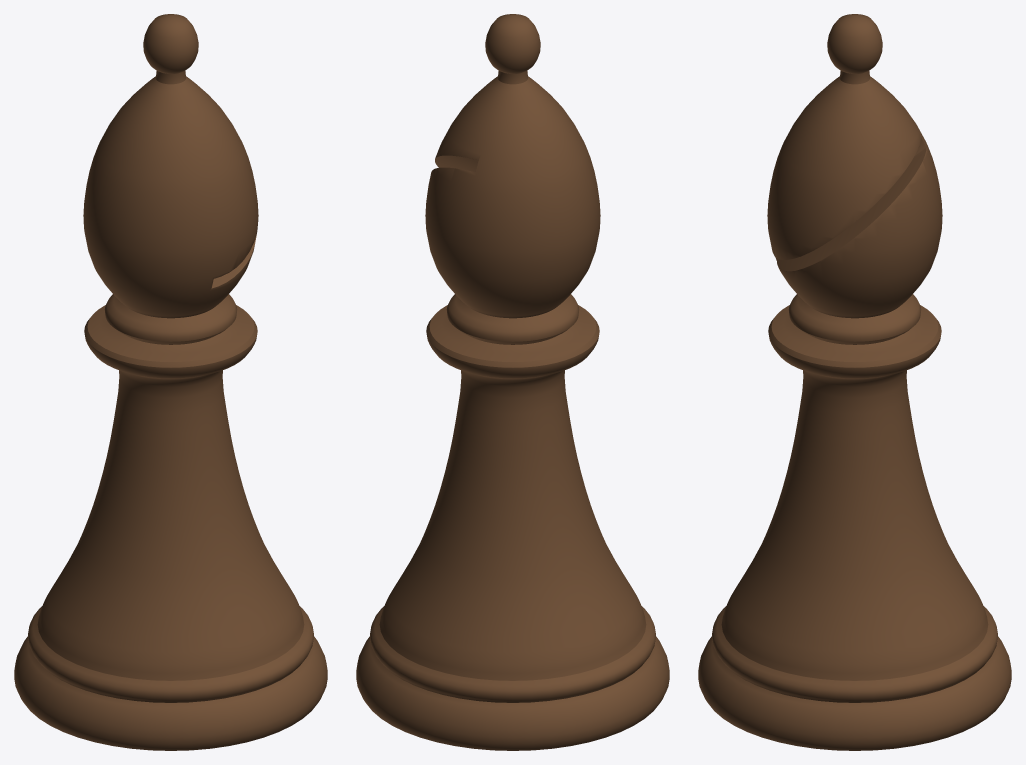
The model's file is black-bishop.glb.
3 renders of one model, left to right at view 1: azimuth 30°, elevation 25°; view 2: azimuth 150°, elevation 25°; view 3: azimuth 270°, elevation 25°, orthographic.
Visible parts, largest first — view 1: black-bishop.001; view 2: black-bishop.001; view 3: black-bishop.001.
Boxes of the visible parts, box(x1,y1,x2,y2) form: black-bishop.001: box(14, 14, 327, 750); black-bishop.001: box(356, 14, 669, 750); black-bishop.001: box(698, 14, 1011, 750).
Size of the model in its own units: 0.5766 by 1.36 by 0.5766.
